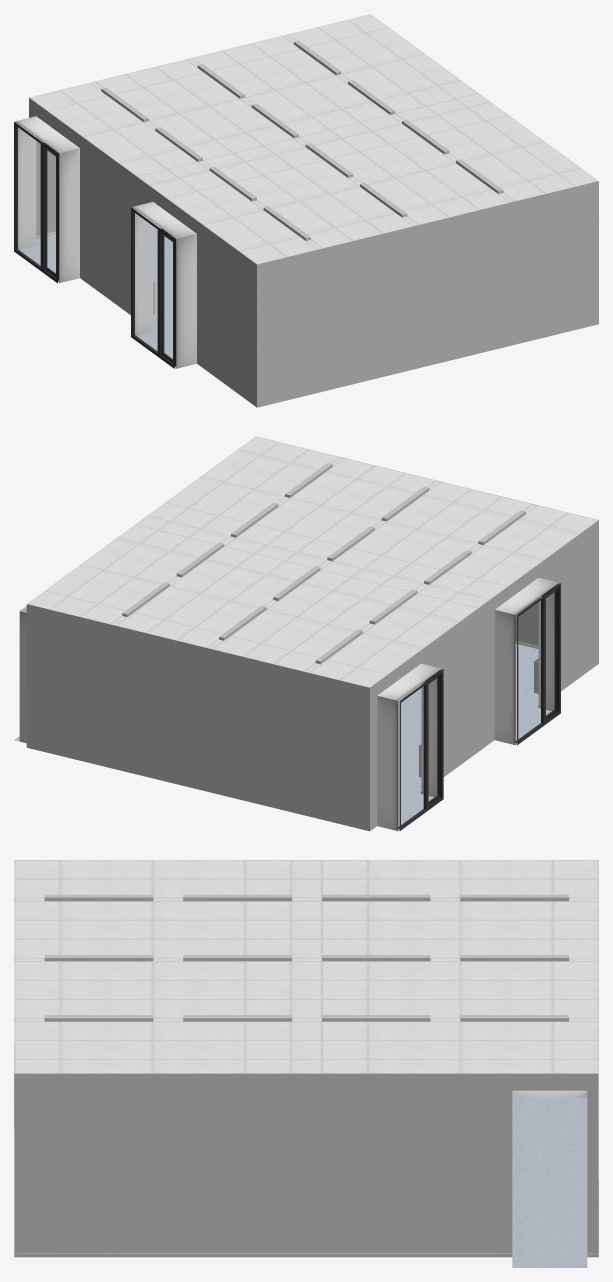
File: realPD2.fbx
3 renders of one model, top to bottom at view 1: azimuth 30°, elevation 25°; view 2: azimuth 150°, elevation 25°; view 3: azimuth 270°, elevation 25°, orthographic. The views are drawn at different scales.
Parts seen in each view (by area): view 1: pCube30; view 2: pCube30; view 3: pCube30.
Part boxes in pixels (left/top/right/bottom): pCube30: left=14, top=14, right=598, bottom=407; pCube30: left=14, top=436, right=598, bottom=831; pCube30: left=14, top=860, right=598, bottom=1267.
Size of the model in its own units: 12.39 by 4.52 by 12.84.
Materials: 9 (9 with a texture image).
